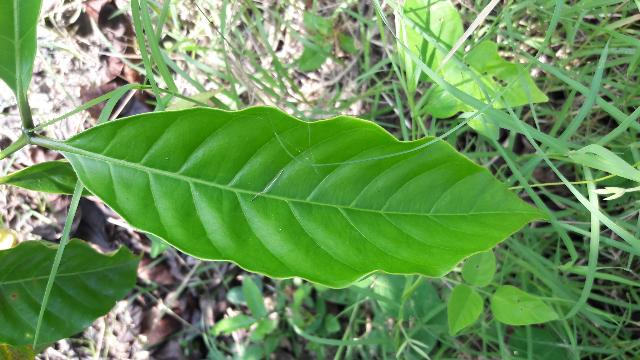healthy: (59, 103, 549, 289)
